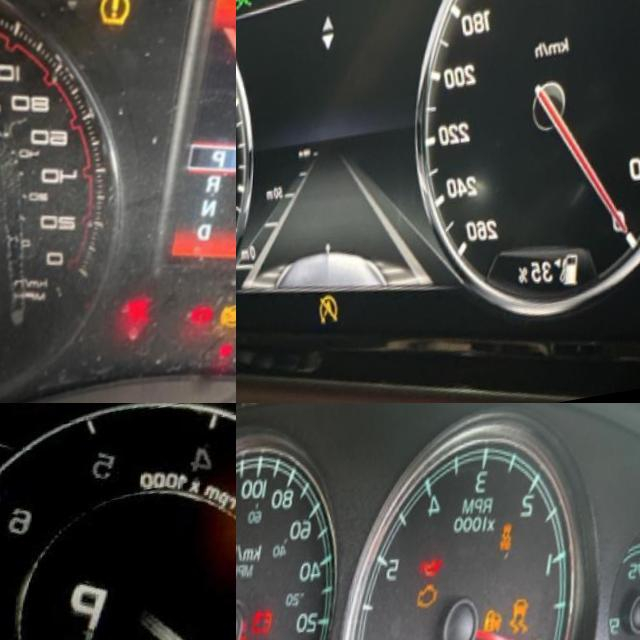security: (484, 620, 509, 640)
